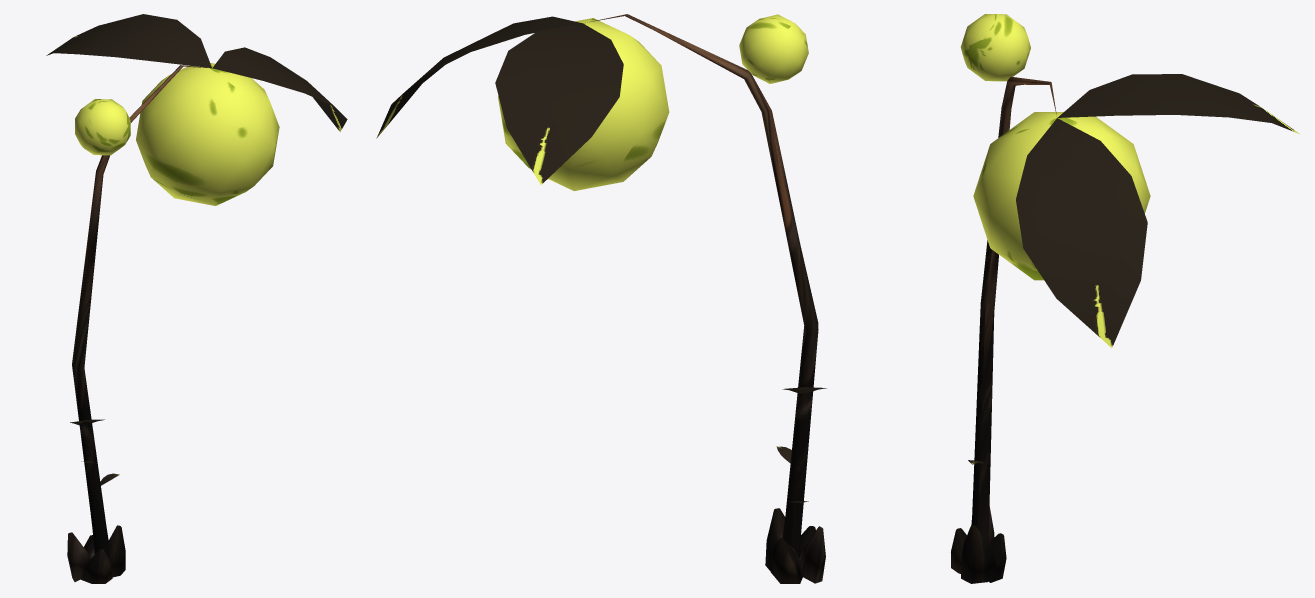
Rendered from SkyMeadowFlower_B.fbx.
3 renders of one model, left to right at view 1: azimuth 30°, elevation 25°; view 2: azimuth 150°, elevation 25°; view 3: azimuth 270°, elevation 25°, orthographic. The views are drawn at different scales.
Parts seen in each view (by area): view 1: SkyMeadowFlower_B; view 2: SkyMeadowFlower_B; view 3: SkyMeadowFlower_B.
Boxes of the visible parts, x1,y1,x2,y2 form: SkyMeadowFlower_B: (46, 14, 347, 583); SkyMeadowFlower_B: (376, 14, 826, 583); SkyMeadowFlower_B: (951, 14, 1299, 583).
Size of the model in its own units: 2.6 by 3.38 by 2.15.
